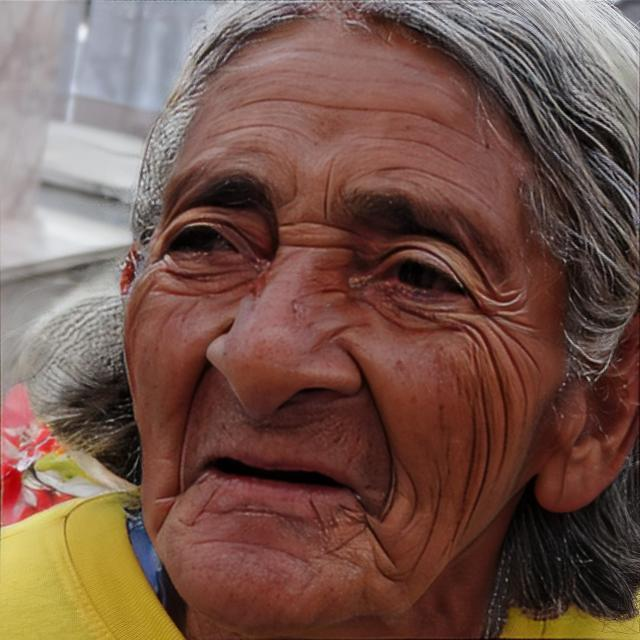disgust: (120, 9, 580, 632)
